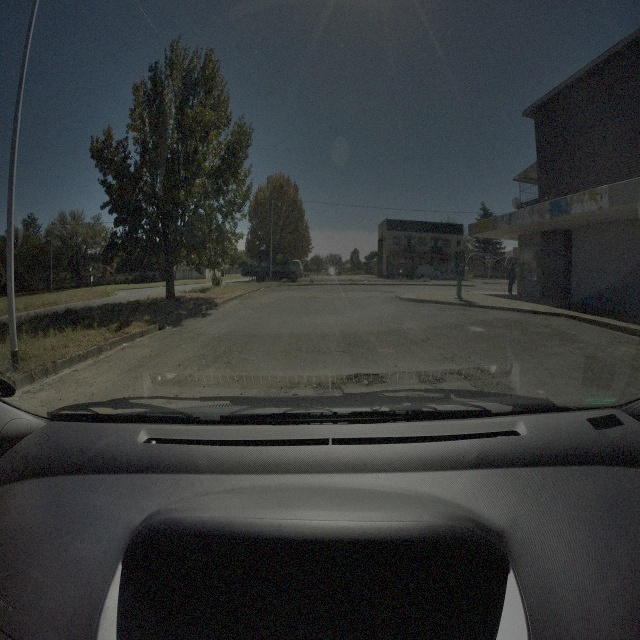pothole: (449, 356, 518, 401), (312, 380, 344, 399), (342, 370, 388, 382), (415, 372, 447, 388)
